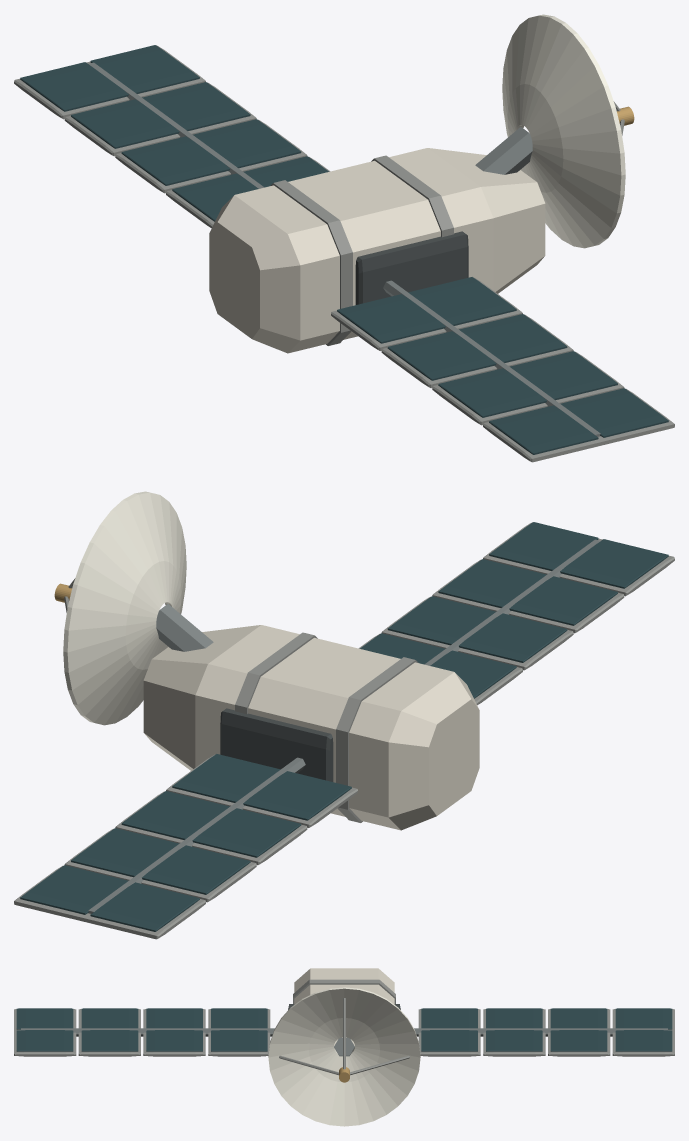
File: warden-v001.glb
3 renders of one model, top to bottom at view 1: azimuth 30°, elevation 25°; view 2: azimuth 150°, elevation 25°; view 3: azimuth 270°, elevation 25°, orthographic. The views are drawn at different scales.
Parts seen in each view (by area): view 1: warden-power-wings, warden-avionics-bus, warden-communications-reflector; view 2: warden-power-wings, warden-avionics-bus, warden-communications-reflector; view 3: warden-power-wings, warden-communications-reflector, warden-avionics-bus.
Boxes of the visible parts, x1,y1,x2,y2 form: warden-power-wings: (14, 45, 674, 462); warden-avionics-bus: (209, 148, 545, 353); warden-communications-reflector: (475, 14, 634, 248); warden-power-wings: (14, 522, 674, 939); warden-avionics-bus: (143, 625, 479, 830); warden-communications-reflector: (54, 491, 213, 725); warden-power-wings: (14, 1008, 674, 1056); warden-communications-reflector: (268, 987, 420, 1126); warden-avionics-bus: (288, 968, 400, 1045).
Bounding box in the file's own units: 18 × 10.38 × 40.85.
Materials: 1 (1 with a texture image).
